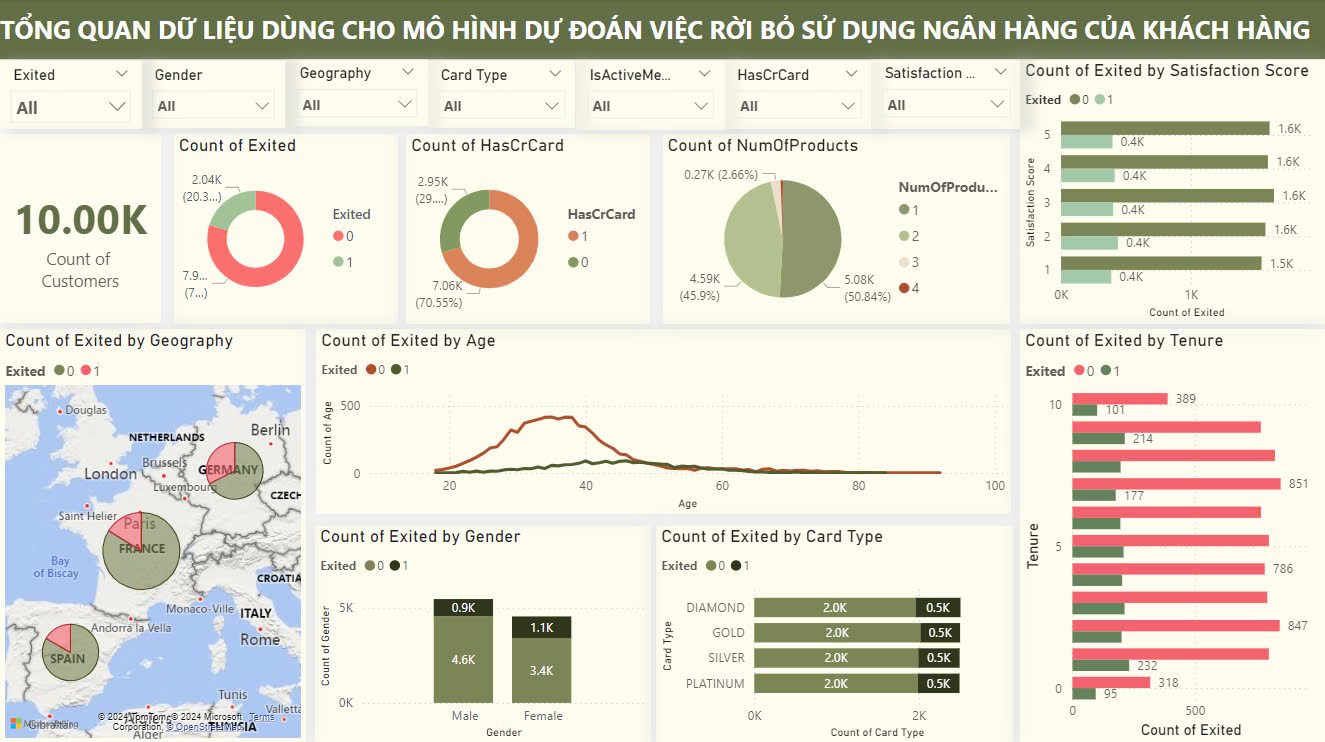

The page's visual inventory and layout, read from the dashboard file:
{"tool":"powerbi","page":{"name":"Page 1","canvas":[1280,720],"ordinal":0},"visuals":[{"type":"shape","box":[0,0,1280.3,59.1],"z":0},{"type":"donutChart","title":"Count of Exited ","fields":{"Category":["churn.Exited"],"Y":["CountNonNull(churn.Exited)"]},"box":[167.7,131.5,216.2,183.1],"z":1000},{"type":"columnChart","title":"Count of Exited by Gender","fields":{"Category":["churn.Gender"],"Y":["CountNonNull(churn.Gender)"],"Series":["churn.Exited"]},"box":[303.8,508.8,323.8,211.2],"z":2000},{"type":"map","title":"Count of Exited by Geography ","fields":{"Size":["CountNonNull(churn.Exited)"],"Series":["churn.Exited"],"Category":["churn.Geography"]},"box":[0,320,295,400],"z":3000},{"type":"lineChart","title":"Count of Exited by Age ","fields":{"Category":["churn.Age"],"Y":["CountNonNull(churn.Age)"],"Series":["churn.Exited"]},"box":[305,320,670,178.8],"z":4000},{"type":"barChart","title":"Count of Exited by Card Type ","fields":{"Category":["churn.Card Type"],"Y":["CountNonNull(churn.Card Type)"],"Series":["churn.Exited"]},"box":[633.8,508.8,345,211.2],"z":5000},{"type":"donutChart","title":"Count of HasCrCard","fields":{"Category":["churn.HasCrCard"],"Y":["CountNonNull(churn.HasCrCard)"]},"box":[392.2,131.1,235.6,183.3],"z":6000},{"type":"card","fields":{"Values":["CountNonNull(churn.RowNumber)"]},"box":[0,131.5,155.4,182.3],"z":7000},{"type":"pieChart","title":"Count of NumOfProducts","fields":{"Category":["churn.NumOfProducts"],"Y":["CountNonNull(churn.NumOfProducts)"]},"box":[638.9,131.1,335.6,183.3],"z":9000},{"type":"clusteredBarChart","title":"Count of Exited by Satisfaction Score ","fields":{"Category":["churn.Satisfaction Score"],"Series":["churn.Exited"],"Y":["CountNonNull(churn.Exited)"]},"box":[984.6,59.2,295.4,255.4],"z":10000},{"type":"clusteredBarChart","title":"Count of Exited by Tenure ","fields":{"Category":["churn.Tenure"],"Y":["CountNonNull(churn.Exited)"],"Series":["churn.Exited"]},"box":[985,320,295,400],"z":11000},{"type":"slicer","fields":{"Values":["churn.Geography"]},"box":[275.8,59.2,136.7,65],"z":12000},{"type":"slicer","fields":{"Values":["churn.Gender"]},"box":[136.7,60,139.2,65.8],"z":13000},{"type":"slicer","fields":{"Values":["churn.Card Type"]},"box":[412.5,60,142.5,65],"z":14000},{"type":"slicer","fields":{"Values":["churn.Exited"]},"box":[0,60,136.7,66.7],"z":15000},{"type":"slicer","fields":{"Values":["churn.IsActiveMember"]},"box":[556,60,143,67],"z":16000},{"type":"slicer","fields":{"Values":["churn.HasCrCard"]},"box":[698.3,60,142.5,66.7],"z":17000},{"type":"slicer","fields":{"Values":["churn.Satisfaction Score"]},"box":[840.8,59.2,144.2,67.5],"z":18000}]}

Visuals, with their boxes in screenshot pixels (x1, y1, x2, y2), scaled from the page's 1280x720 canvas onto the 1325x742 screenshot:
shape: rect(0, 0, 1324, 61)
"Count of Exited " donutChart: rect(174, 136, 397, 324)
"Count of Exited by Gender" columnChart: rect(314, 524, 650, 741)
"Count of Exited by Geography " map: rect(0, 330, 305, 741)
"Count of Exited by Age " lineChart: rect(316, 330, 1009, 514)
"Count of Exited by Card Type " barChart: rect(656, 524, 1013, 741)
"Count of HasCrCard" donutChart: rect(406, 135, 650, 324)
card - CountNonNull(churn.RowNumber): rect(0, 136, 161, 323)
"Count of NumOfProducts" pieChart: rect(661, 135, 1009, 324)
"Count of Exited by Satisfaction Score " clusteredBarChart: rect(1019, 61, 1324, 324)
"Count of Exited by Tenure " clusteredBarChart: rect(1020, 330, 1324, 741)
slicer - churn.Geography: rect(285, 61, 427, 128)
slicer - churn.Gender: rect(142, 62, 286, 130)
slicer - churn.Card Type: rect(427, 62, 575, 129)
slicer - churn.Exited: rect(0, 62, 142, 131)
slicer - churn.IsActiveMember: rect(576, 62, 724, 131)
slicer - churn.HasCrCard: rect(723, 62, 870, 131)
slicer - churn.Satisfaction Score: rect(870, 61, 1020, 131)
